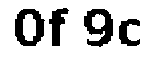0: (13, 5, 47, 50)
9: (82, 4, 114, 50)
c: (118, 18, 143, 48)
f: (49, 6, 70, 50)
